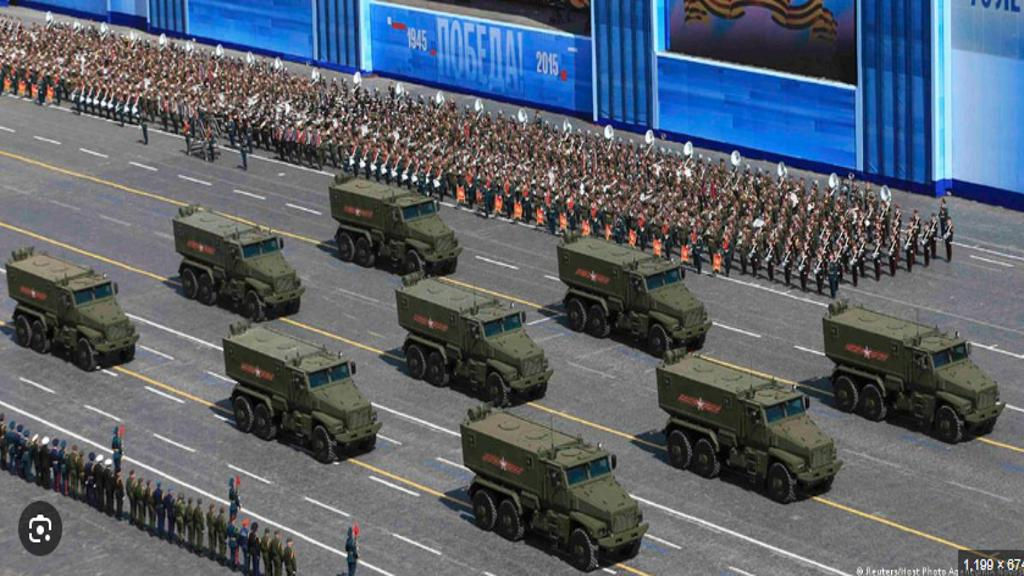TRUCK: (458, 406, 649, 572), (654, 354, 839, 503), (820, 301, 1004, 444), (220, 321, 382, 461), (395, 272, 552, 406), (556, 232, 713, 355), (4, 248, 138, 367), (170, 208, 303, 321), (327, 172, 460, 277)
